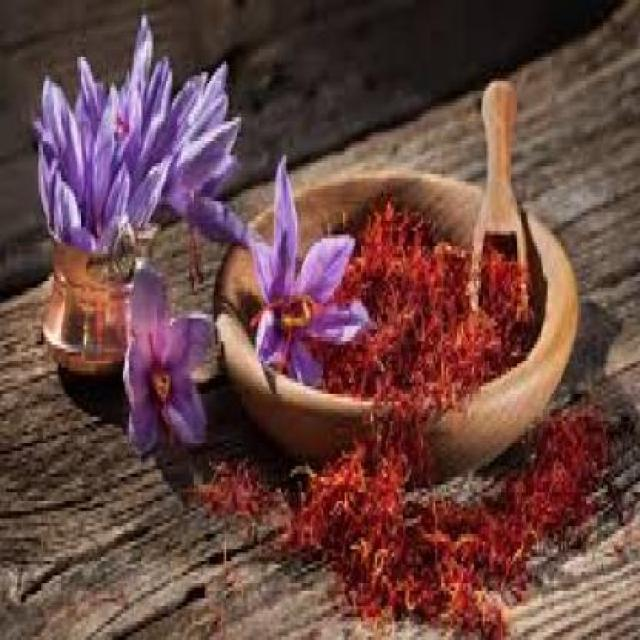Flower: (256, 154, 361, 389), (122, 266, 213, 452)
